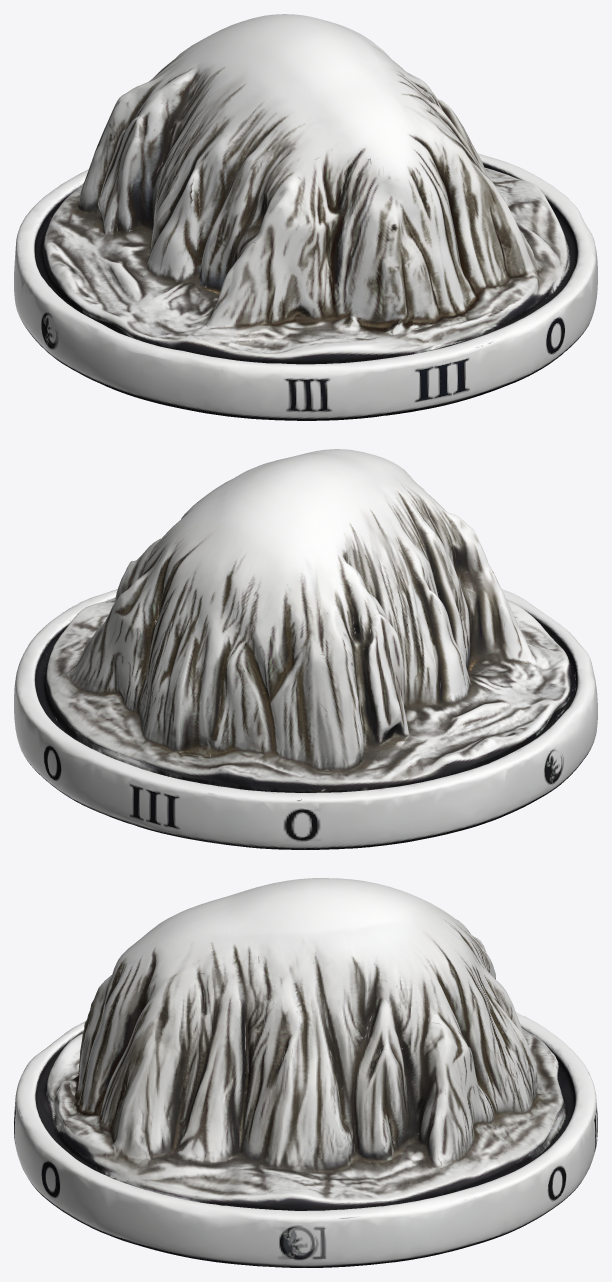
Rendered from uluru_silver.glb.
The picture shows the model from 3 angles, top to bottom: view 1: azimuth 30°, elevation 25°; view 2: azimuth 150°, elevation 25°; view 3: azimuth 270°, elevation 25°; orthographic projection.
Parts seen in each view (by area): view 1: Mesh_0; view 2: Mesh_0; view 3: Mesh_0.
Part boxes in pixels (x1,y1,x2,y2): Mesh_0: (14,14,597,420); Mesh_0: (14,449,597,849); Mesh_0: (14,878,597,1267).
Size of the model in its own units: 1.91 by 0.9515 by 1.91.
Materials: 1 (1 with a texture image).
